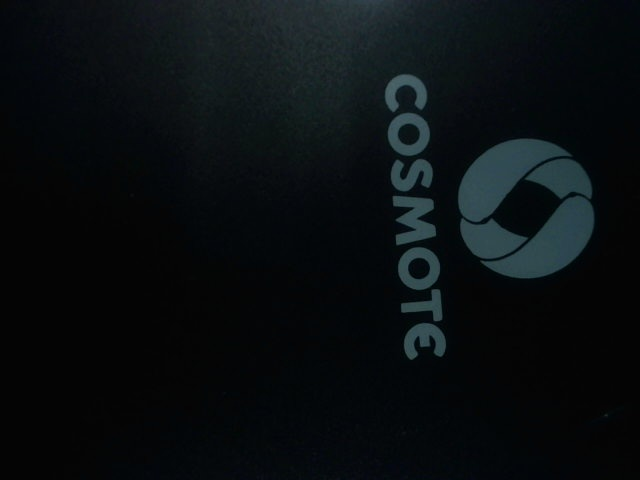AU_COSMOTE: (361, 60, 602, 359)
